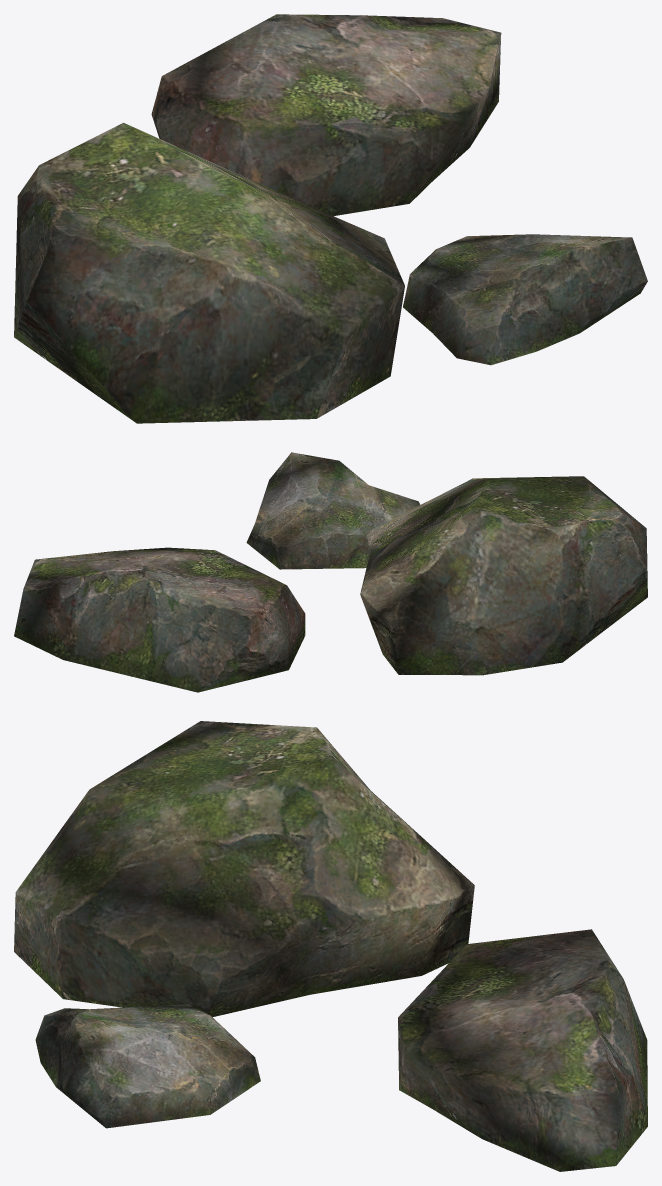
The model's file is Rock01.glb.
The picture shows the model from 3 angles, top to bottom: view 1: azimuth 30°, elevation 25°; view 2: azimuth 150°, elevation 25°; view 3: azimuth 270°, elevation 25°; orthographic projection. The views are drawn at different scales.
Visible parts, largest first — view 1: common_rock_01; view 2: common_rock_01; view 3: common_rock_01.
Part boxes in pixels (x1,y1,x2,y2): common_rock_01: (14, 14, 647, 423); common_rock_01: (14, 452, 647, 692); common_rock_01: (14, 721, 647, 1171).
Size of the model in its own units: 2.41 by 0.6424 by 2.06.
Materials: 1 (1 with a texture image).
